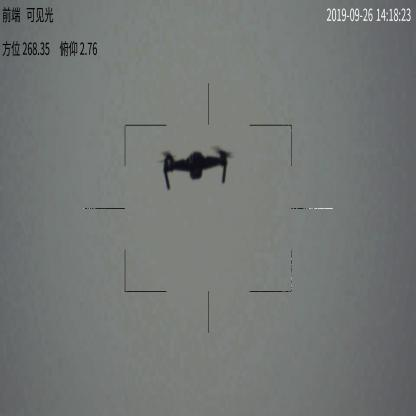uav: (154, 145, 235, 191)
